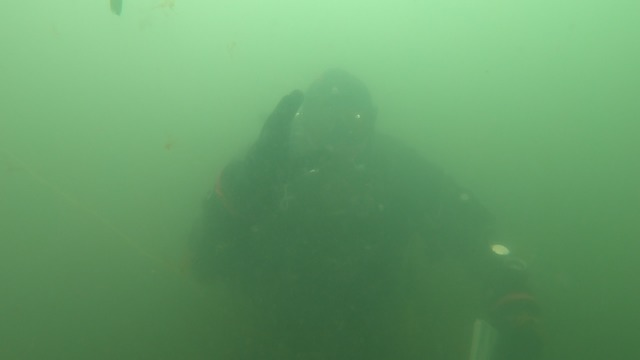Diver: (160, 41, 563, 359)
Hand: (198, 79, 315, 244)
Head: (272, 55, 379, 197)
